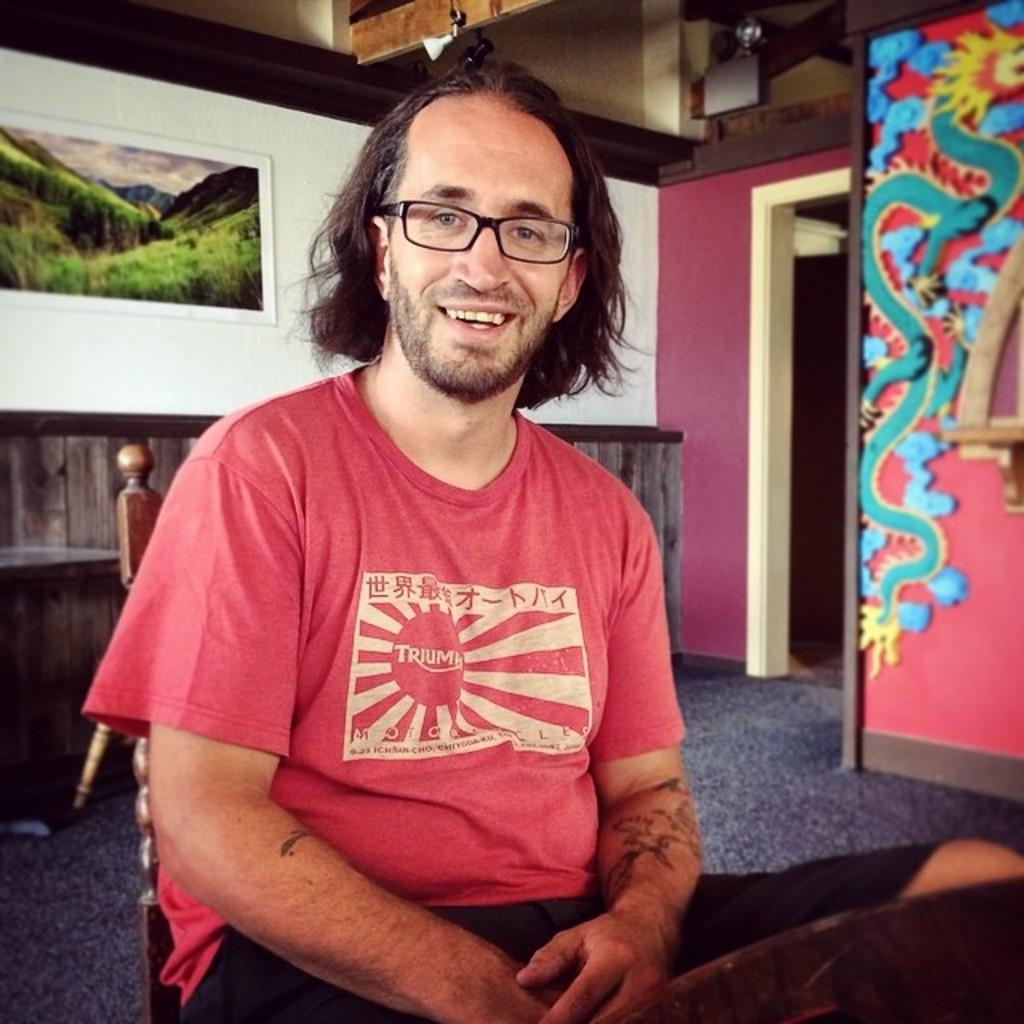Sem Máscara: (383, 122, 567, 402)
